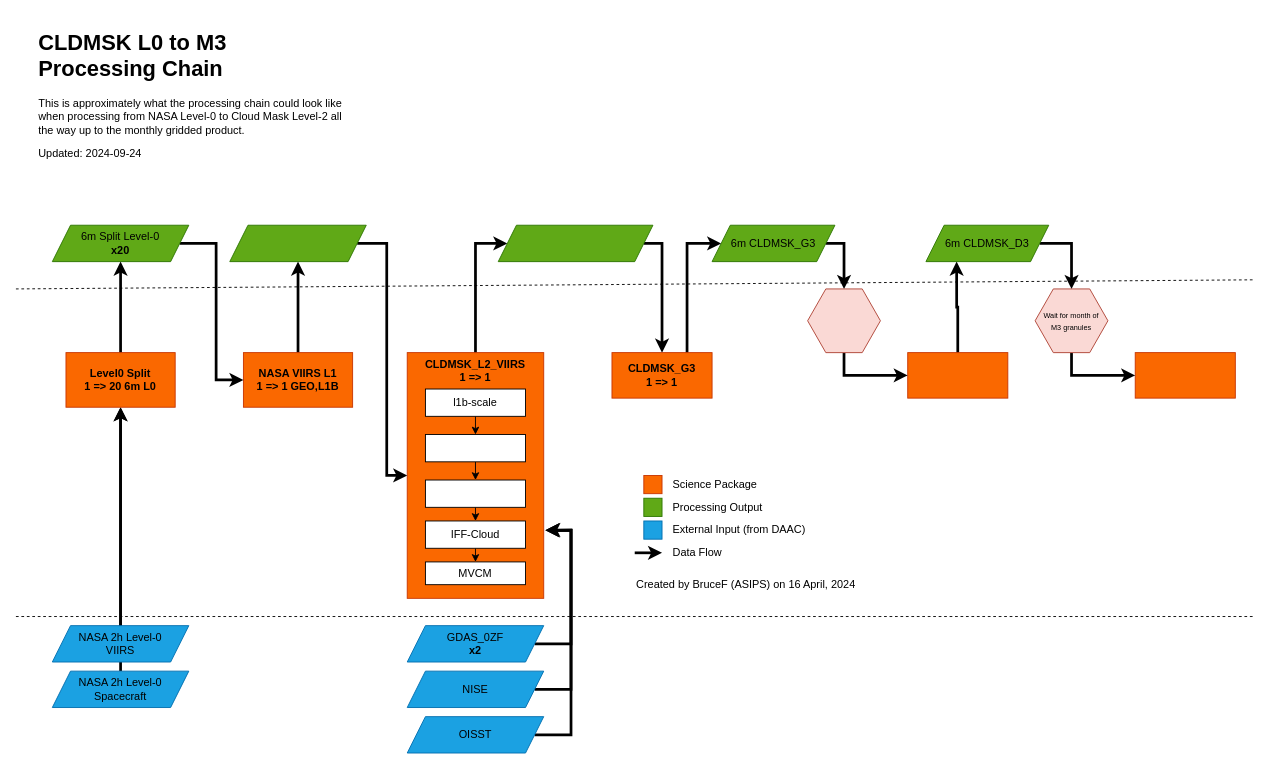
Image size: 1270x769. Some labels were removed from this diagram. Each missing label, with the box of its shape:
6m CLDMSK_L2_VIIRS: (497, 224, 653, 262)
6m VIIRS GEO/L1B: (229, 224, 366, 262)
CLDMSK_D3 240 => 1: (907, 352, 1008, 398)
CLDMSK_M3 30 => 1: (1134, 352, 1235, 398)
demlw: (425, 434, 526, 462)
viirsmend: (425, 479, 526, 507)
Wait for 240 G3 granules: (807, 288, 880, 353)
